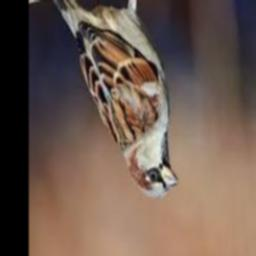Sparrow: (45, 0, 177, 199)
